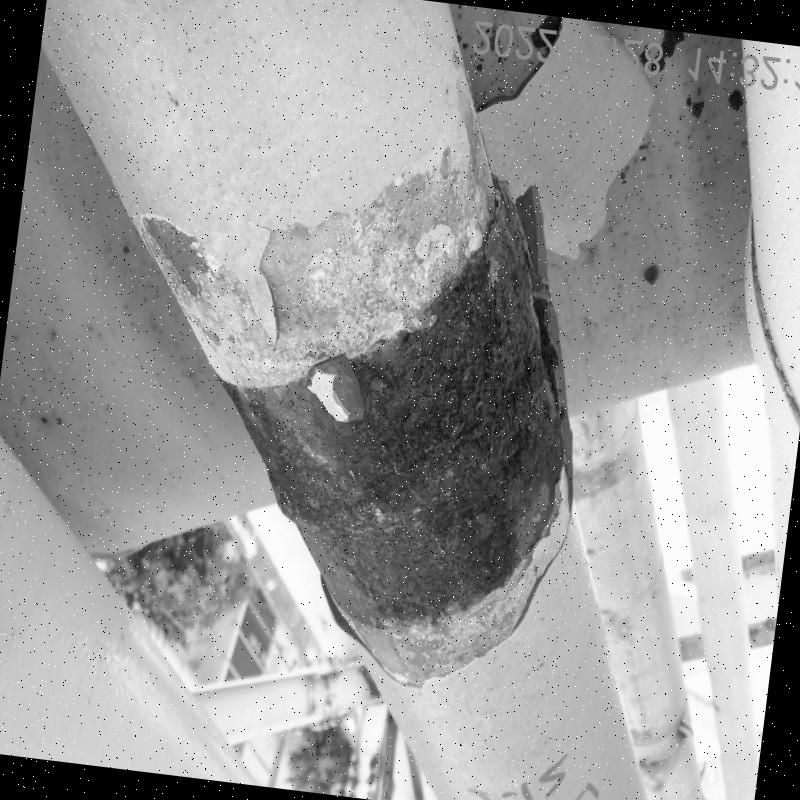corrosion: (233, 249, 592, 672)
